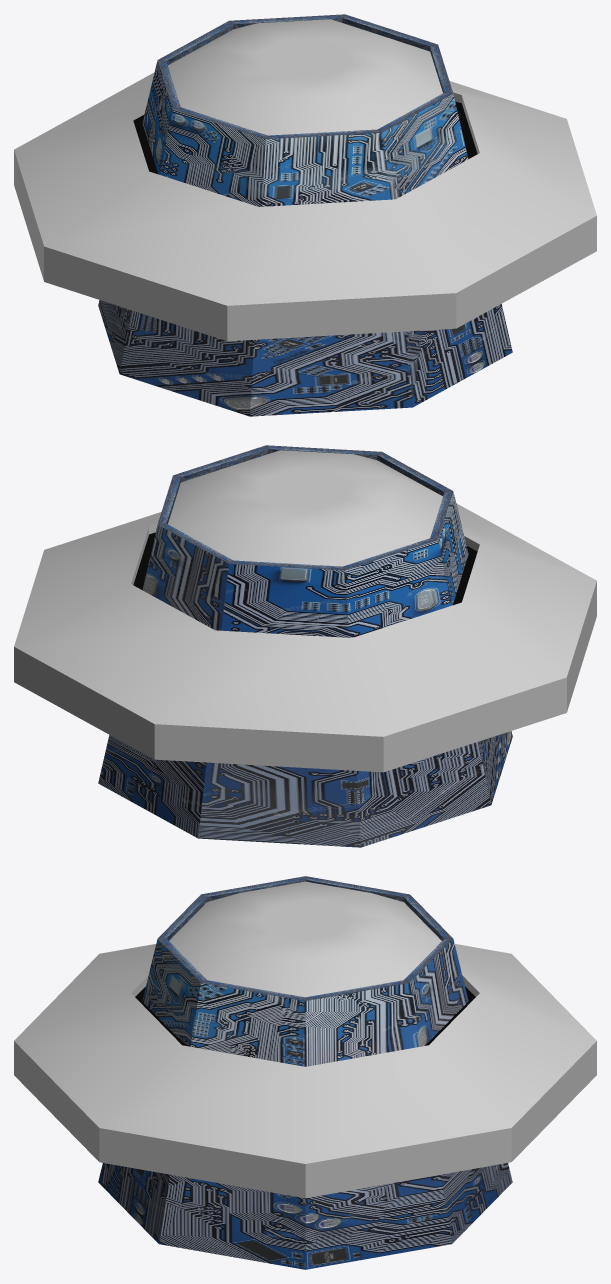
Rendered from Button.fbx.
The picture shows the model from 3 angles, top to bottom: view 1: azimuth 30°, elevation 25°; view 2: azimuth 150°, elevation 25°; view 3: azimuth 270°, elevation 25°; orthographic projection. The views are drawn at different scales.
Visible parts, largest first — view 1: polySurface5, polySurface1, polySurface2, polySurface4; view 2: polySurface5, polySurface1, polySurface2, polySurface4; view 3: polySurface5, polySurface1, polySurface2, polySurface4.
Part boxes in pixels (x1,y1,x2,y2): polySurface5: (14,72,596,341); polySurface1: (98,14,512,416); polySurface2: (168,19,442,135); polySurface4: (133,101,477,174); polySurface5: (14,503,596,772); polySurface1: (98,445,512,847); polySurface2: (168,450,442,566); polySurface4: (133,532,477,605); polySurface5: (14,944,596,1198); polySurface1: (98,876,512,1269); polySurface2: (169,881,441,997); polySurface4: (135,986,475,1045).
Bounding box in the file's own units: 4.16 × 2.05 × 4.16.
